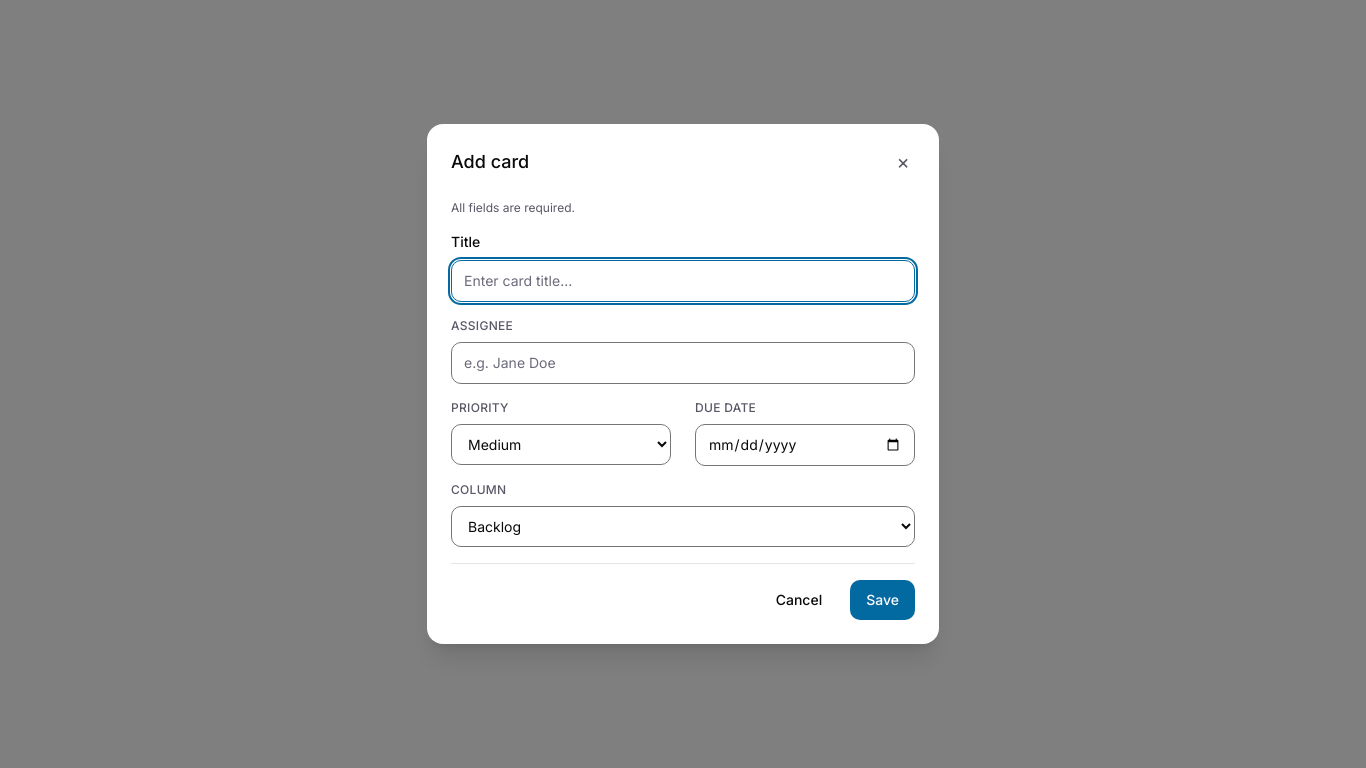
CardModal › blocks saving until title, assignee and due date are filled
The width and height of the screenshot is (1366, 768).
Click the button "Save" at (883, 600), box [850,580,915,620]
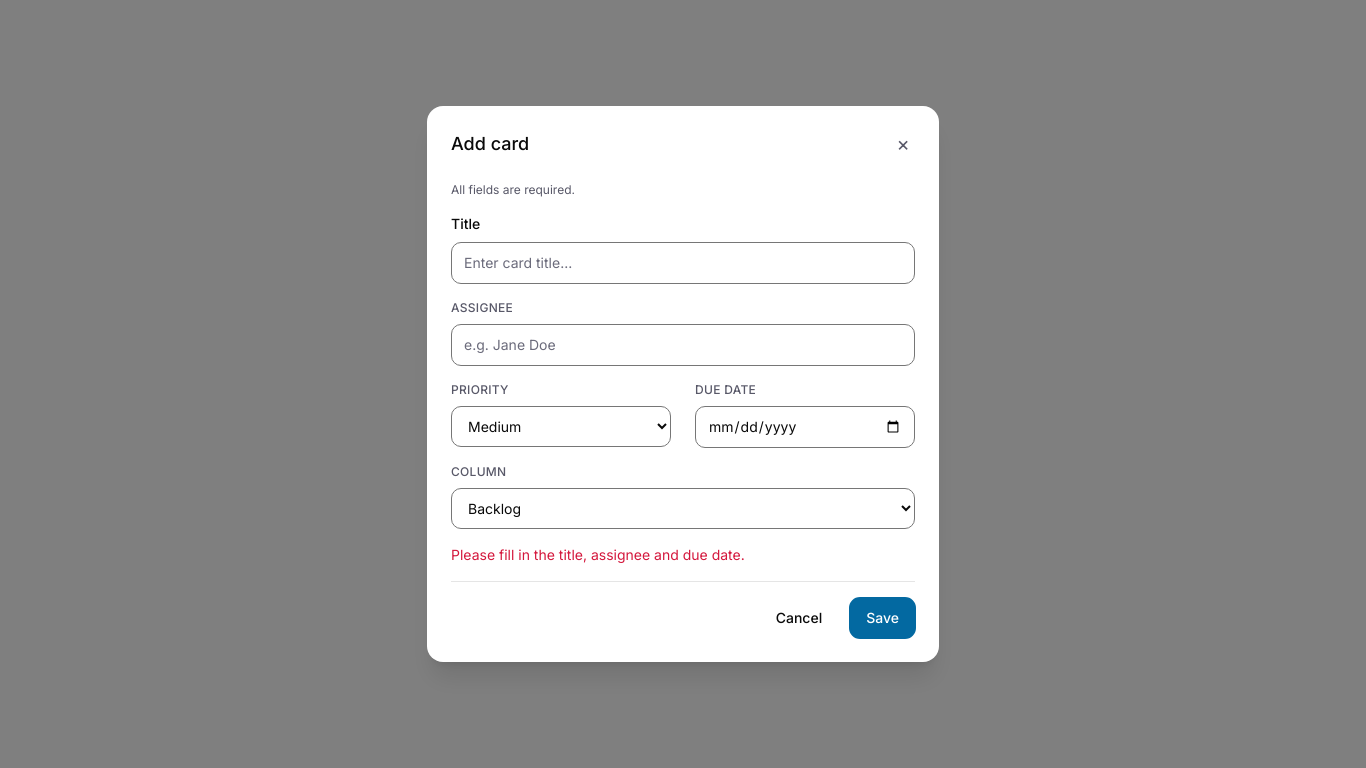
Result: the message shows "Please fill in" at [451,546,745,563]
